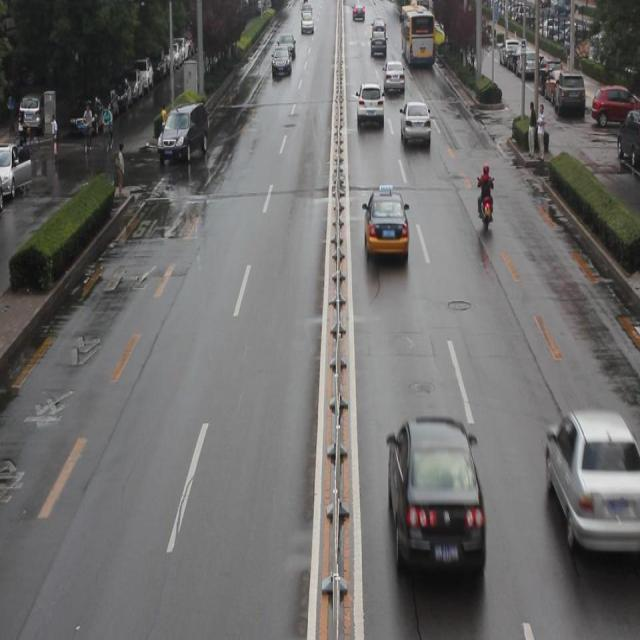car: (385, 421, 484, 585), (544, 407, 640, 554), (360, 187, 409, 267), (400, 100, 430, 150), (355, 83, 382, 133)
truck: (158, 102, 208, 166)
